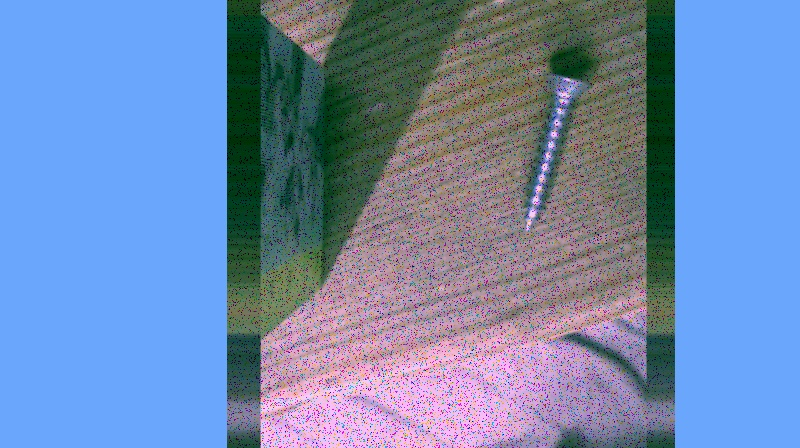S001: (515, 68, 595, 238)
